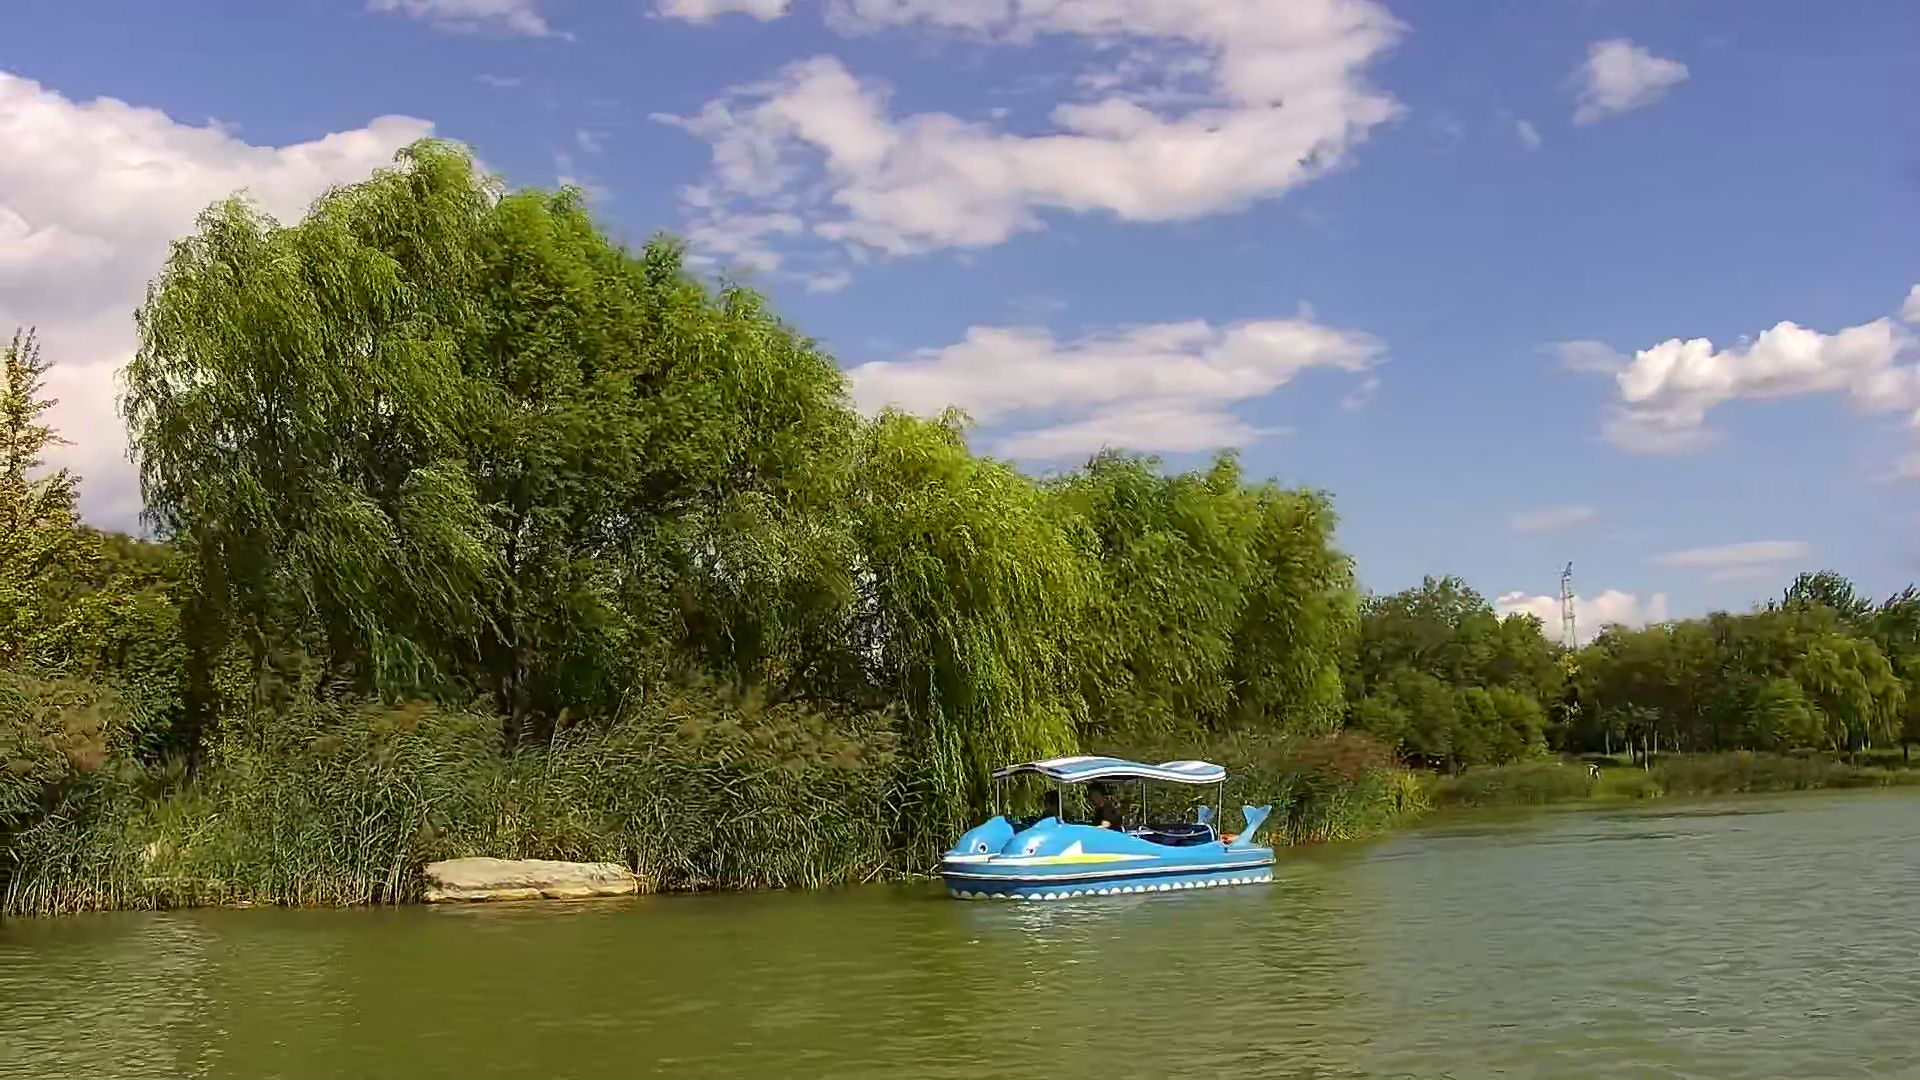boat: (938, 760, 1276, 897)
person: (1077, 783, 1123, 835), (1033, 788, 1068, 825)
rock: (426, 856, 642, 907)
